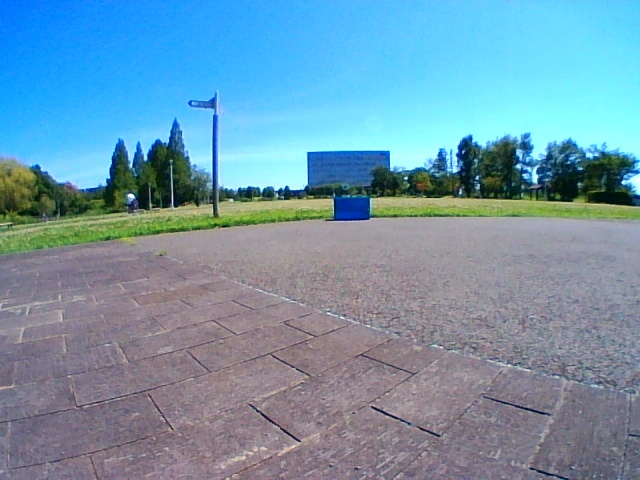blue_box: (334, 197, 369, 221)
